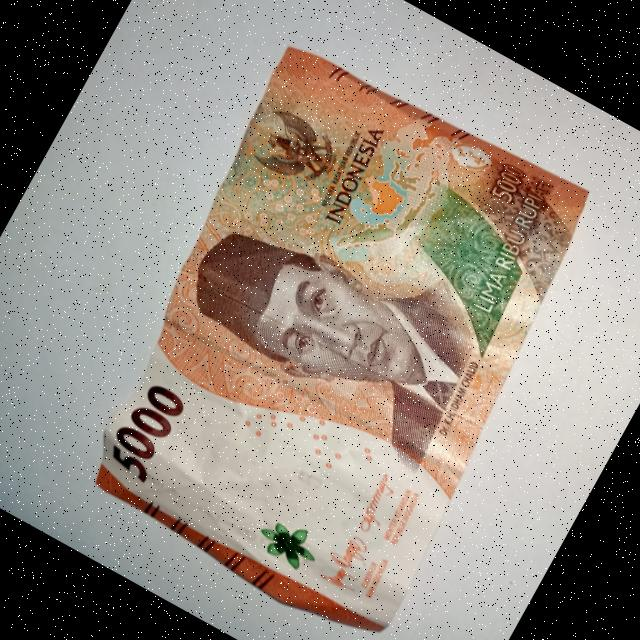5K: (1, 5, 640, 640)
